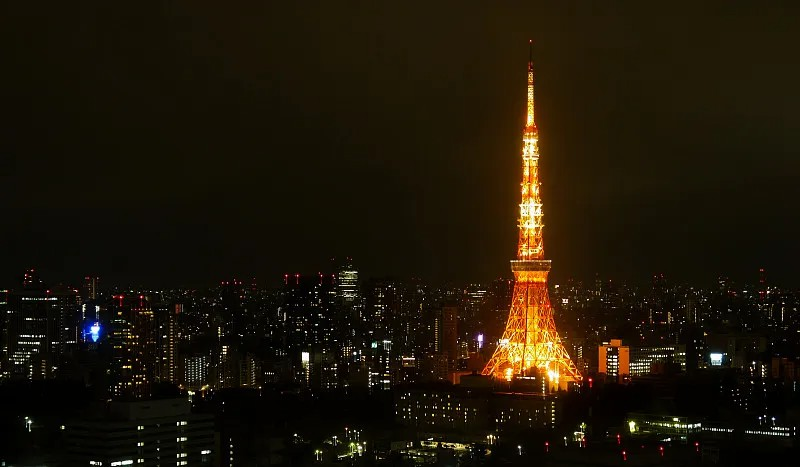Tokyo: (486, 37, 583, 391)
